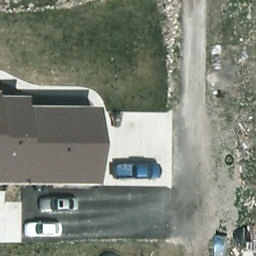car: (38, 197, 81, 214), (24, 221, 64, 239)
pickup: (110, 161, 163, 180)
